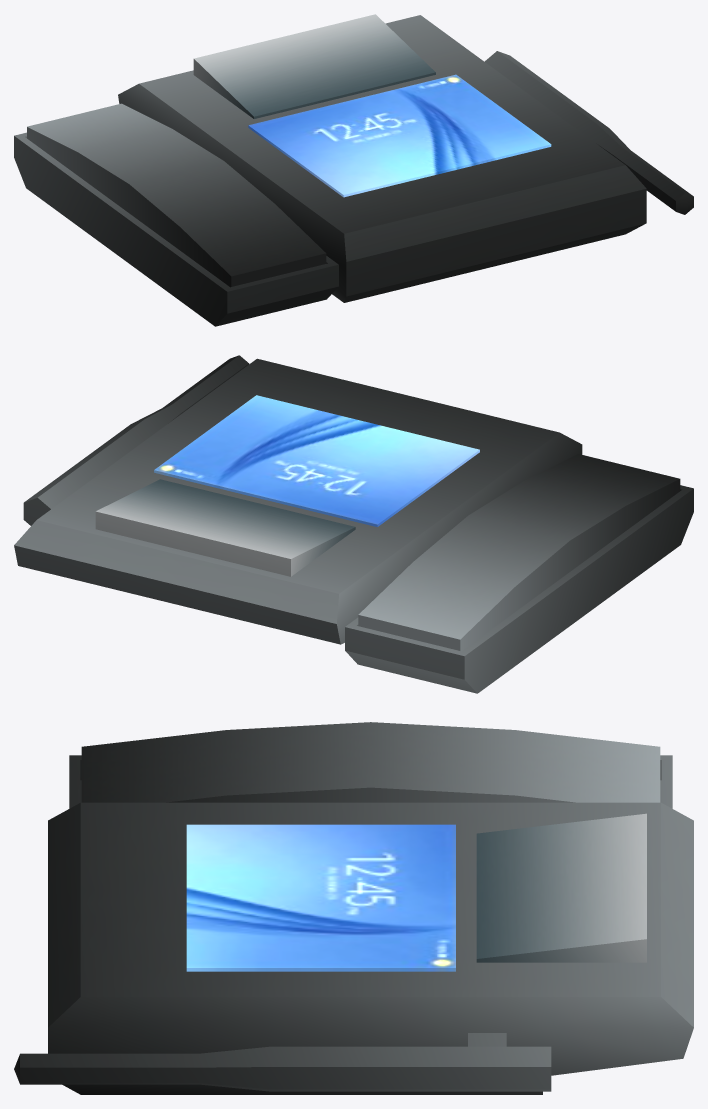
Rendered from Phone_DeskPhone.fbx.
3 views of the same model, one above another, from view 1: azimuth 30°, elevation 25°; view 2: azimuth 150°, elevation 25°; view 3: azimuth 270°, elevation 25° (orthographic). The views are drawn at different scales.
Visible parts, largest first — view 1: Phone_DeskPhone; view 2: Phone_DeskPhone; view 3: Phone_DeskPhone.
Boxes of the visible parts, box(x1,y1,x2,y2) form: Phone_DeskPhone: box(14, 14, 693, 326); Phone_DeskPhone: box(14, 355, 693, 693); Phone_DeskPhone: box(14, 722, 693, 1094).
Bounding box in the file's own units: 26.44 × 4.78 × 24.29.
